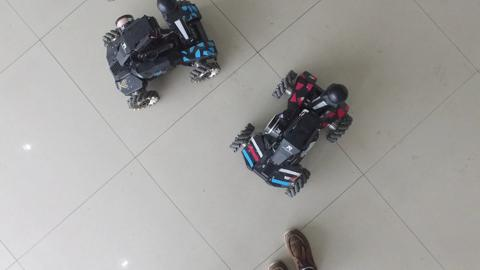chariot: (227, 66, 362, 203), (91, 1, 228, 119)
